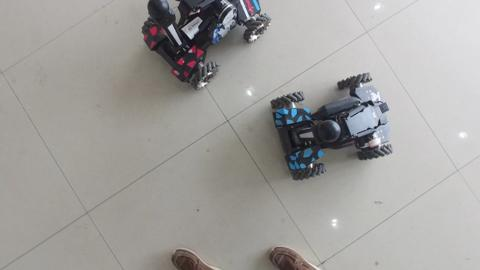chariot: (271, 69, 396, 184), (142, 1, 279, 95)
